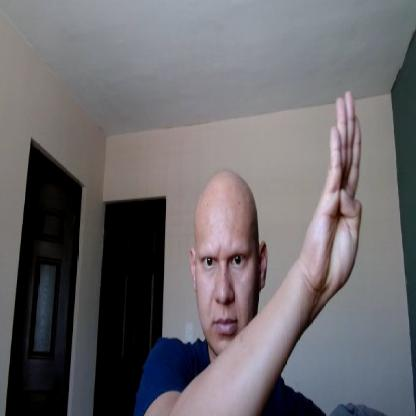B: (308, 90, 363, 290)
